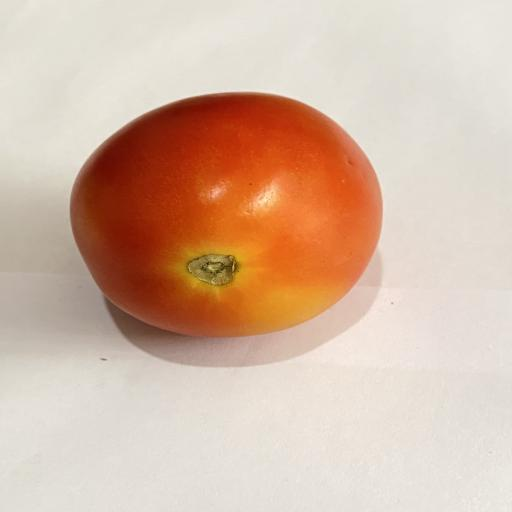ripe: (71, 93, 382, 337)
